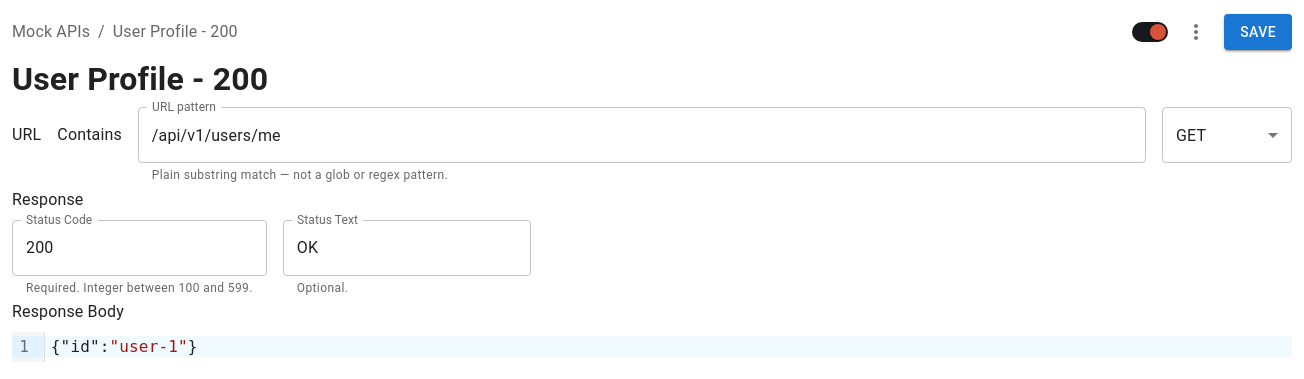
Scenario: MockResponseForm › renders the overflow menu button and its items when overflowMenuItems is provided
The width and height of the screenshot is (1304, 379).
Click the button named "Open more menu". click: coordinates (1196, 32)
box: x1=1176 y1=12 x2=1216 y2=52
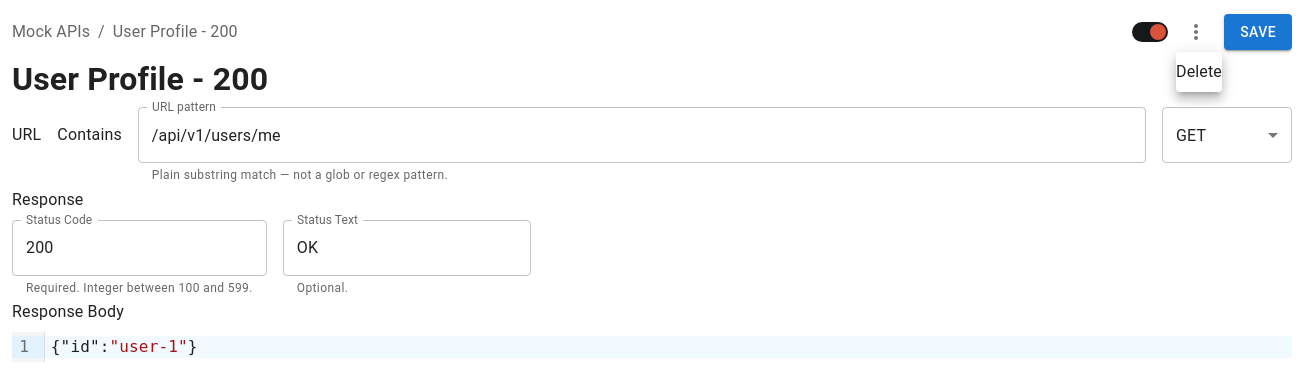
Check: the menu item "Delete" is shown, box x1=1176 y1=60 x2=1222 y2=84
